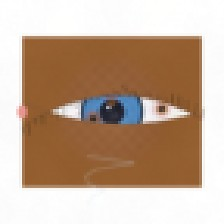foreign_body_visible: (107, 119, 154, 156)
